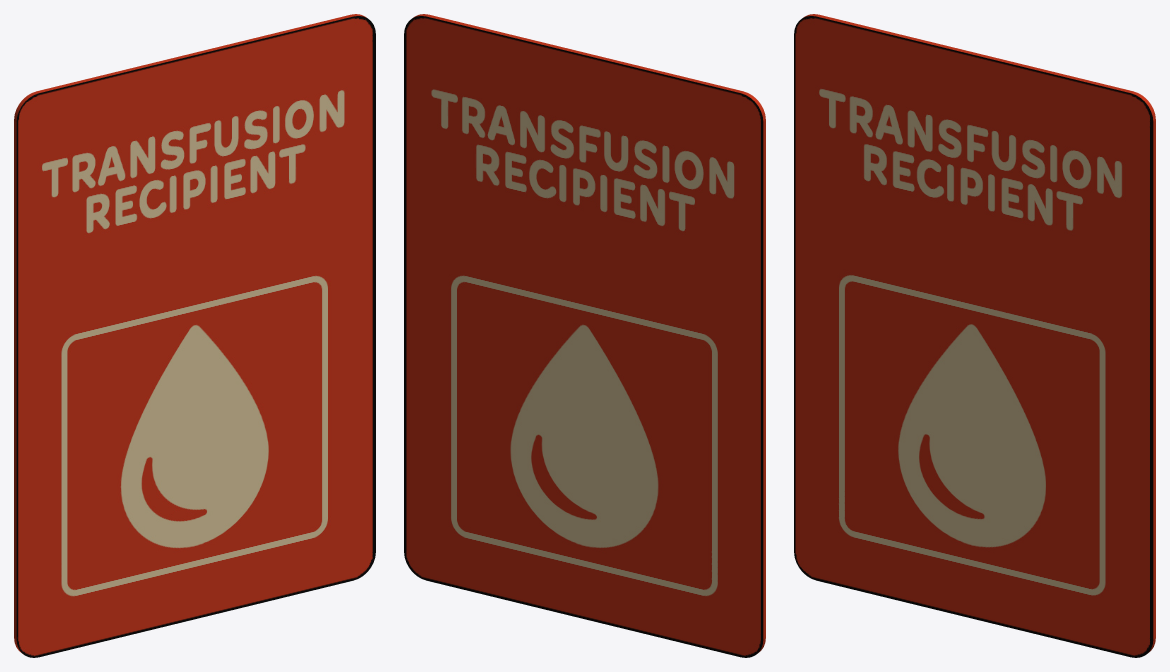
Rendered from recipient-card.glb.
3 views of the same model, side by side, from view 1: azimuth 30°, elevation 25°; view 2: azimuth 150°, elevation 25°; view 3: azimuth 330°, elevation 25° (orthographic).
Parts seen in each view (by area): view 1: Card Red; view 2: Card Red; view 3: Card Red.
Boxes of the visible parts, x1,y1,x2,y2 form: Card Red: (14,14,375,657); Card Red: (404,14,765,657); Card Red: (794,14,1155,657).
Size of the model in its own units: 0.08 by 0.12 by 0.001.
Materials: 1 (1 with a texture image).
